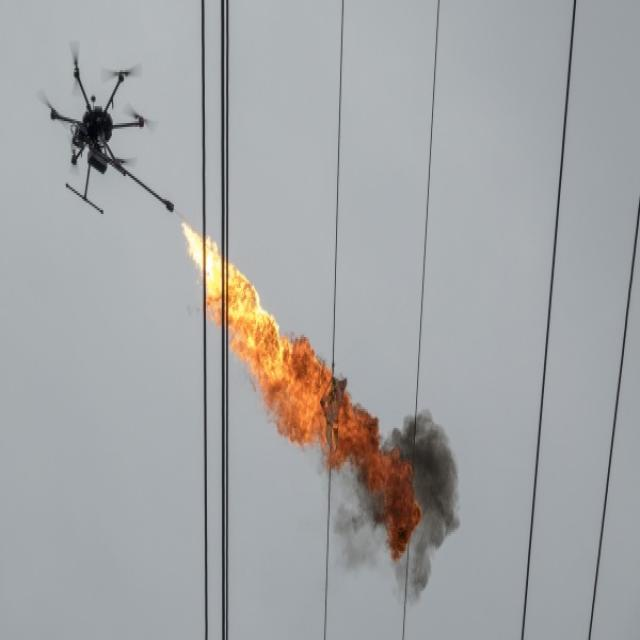drone: (33, 57, 162, 187)
